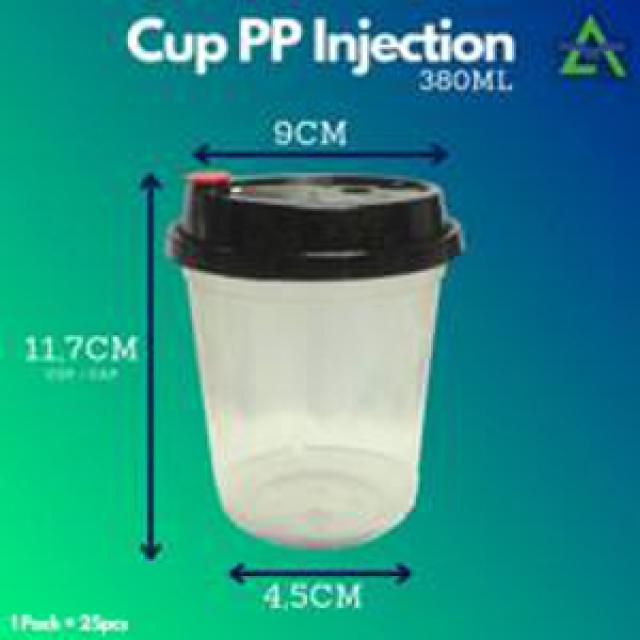plastic cup: (158, 160, 478, 567)
